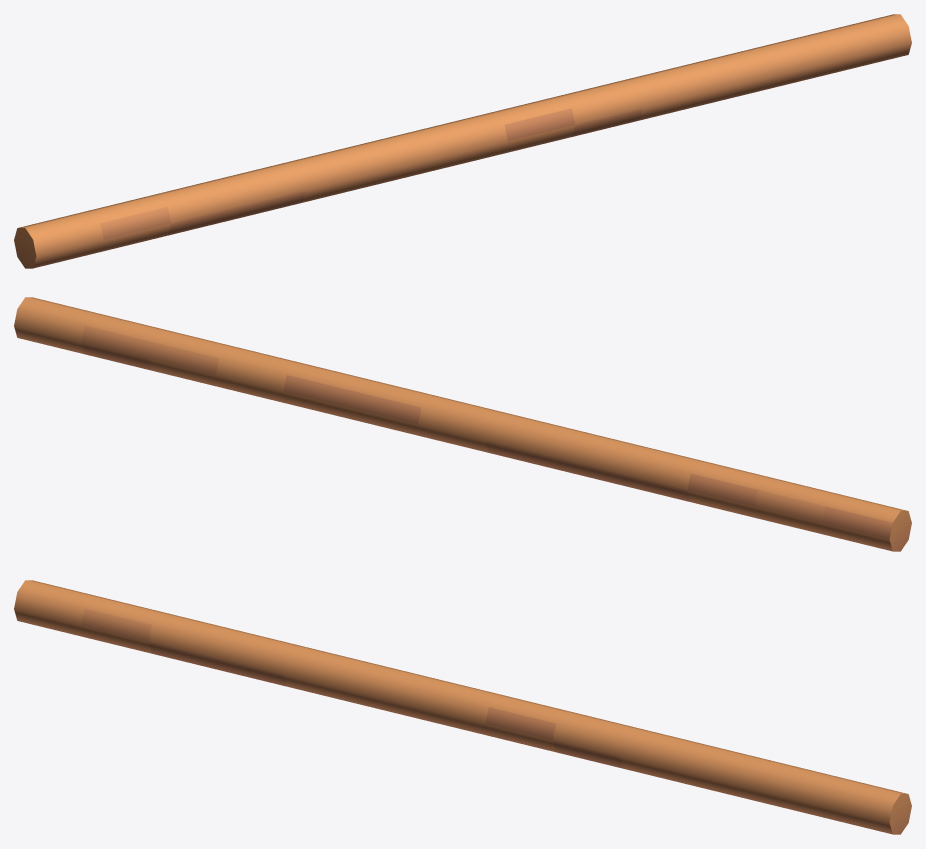
File: Wood.fbx
3 views of the same model, one above another, from view 1: azimuth 30°, elevation 25°; view 2: azimuth 150°, elevation 25°; view 3: azimuth 330°, elevation 25° (orthographic).
Visible parts, largest first — view 1: Wood; view 2: Wood; view 3: Wood.
Part boxes in pixels (x1=…): Wood: x1=14, y1=14, x2=911, y2=268; Wood: x1=14, y1=297, x2=911, y2=551; Wood: x1=14, y1=580, x2=911, y2=834.
Bounding box in the file's own units: 180 × 8.01 × 8.01.
